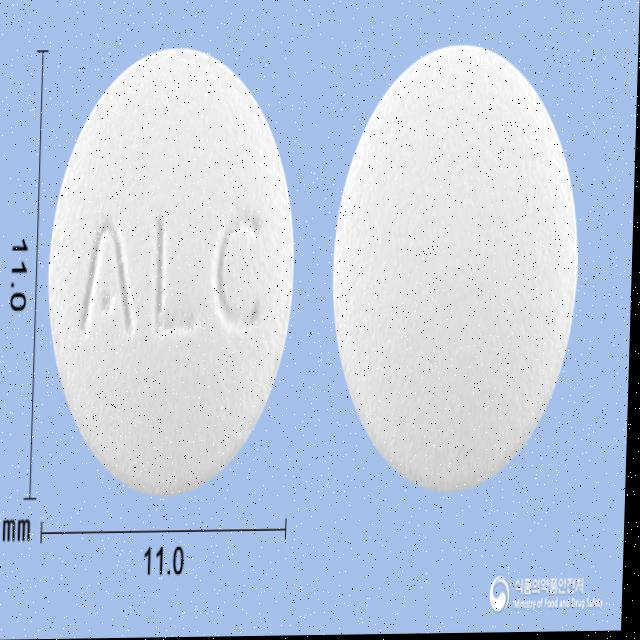Ciprofloxacin Hcl Tab- Arlico: (41, 36, 305, 506)
